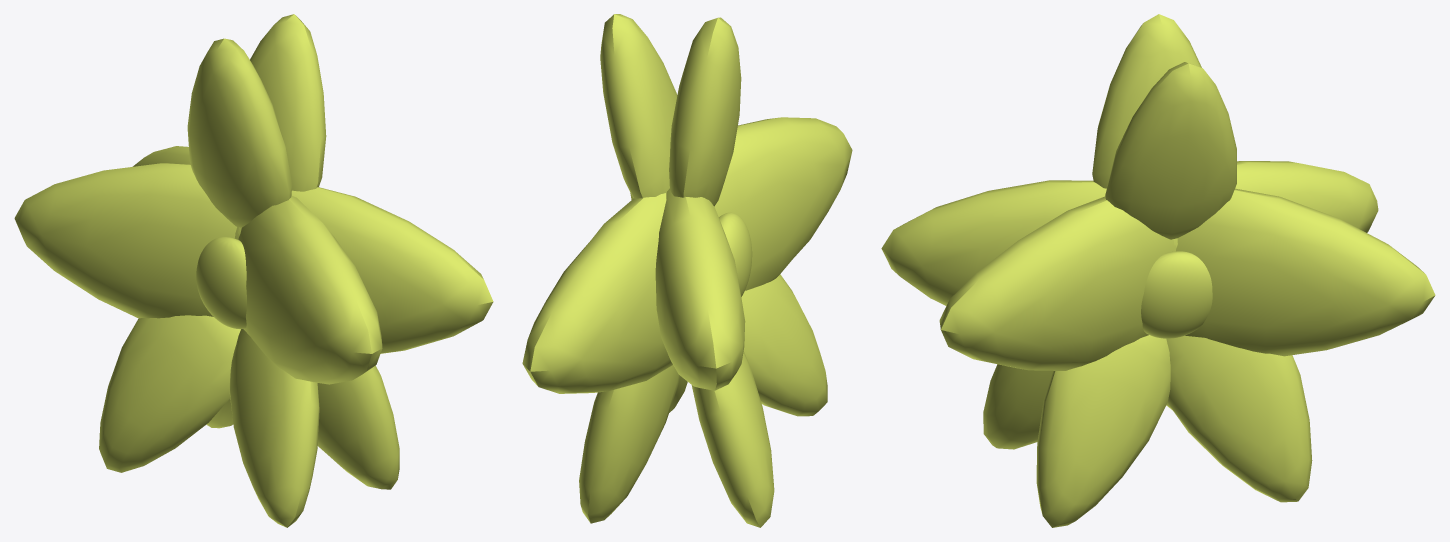
The model's file is star.006.gltf.
3 views of the same model, side by side, from view 1: azimuth 30°, elevation 25°; view 2: azimuth 150°, elevation 25°; view 3: azimuth 270°, elevation 25° (orthographic). The views are drawn at different scales.
Parts seen in each view (by area): view 1: star.006; view 2: star.006; view 3: star.006.
Part boxes in pixels (x1,y1,x2,y2): star.006: (14, 14, 493, 527); star.006: (522, 14, 852, 527); star.006: (881, 14, 1435, 527).
Bounding box in the file's own units: 1.21 × 1.84 × 2.
